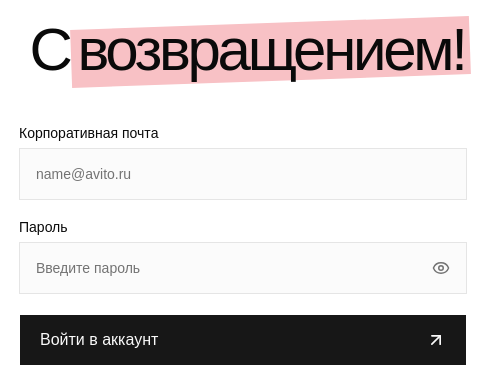
can reveal and hide the password without submitting or changing its value
The width and height of the screenshot is (488, 382).
Type "example" into the password field labelled "Пароль". click: (243, 268)
box: [19,242,467,294]
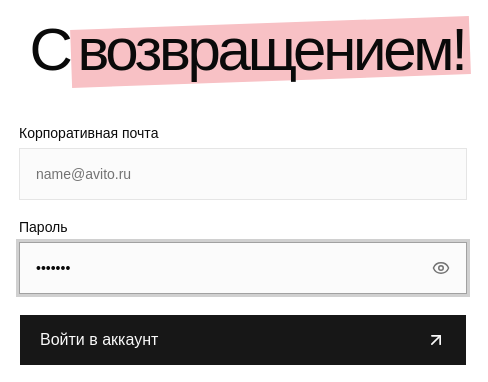
Click the button named "Показать пароль". click: click(441, 268)
box: [415,242,467,294]
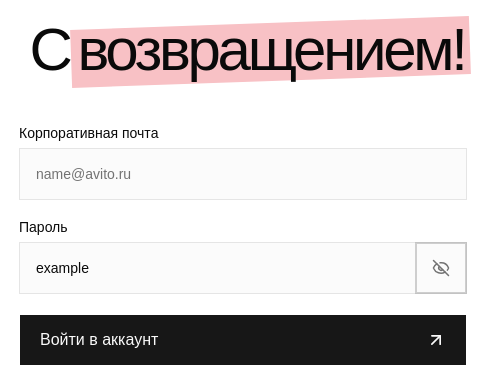
Expected: the field labelled "Пароль" shows its text, [19,242,467,294]
Click the button named "Скрыть пароль". click: click(441, 268)
box: [415,242,467,294]
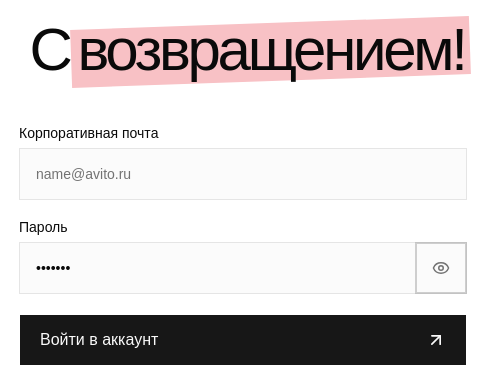
Expected: the password field labelled "Пароль" hides its text, [19,242,467,294]
